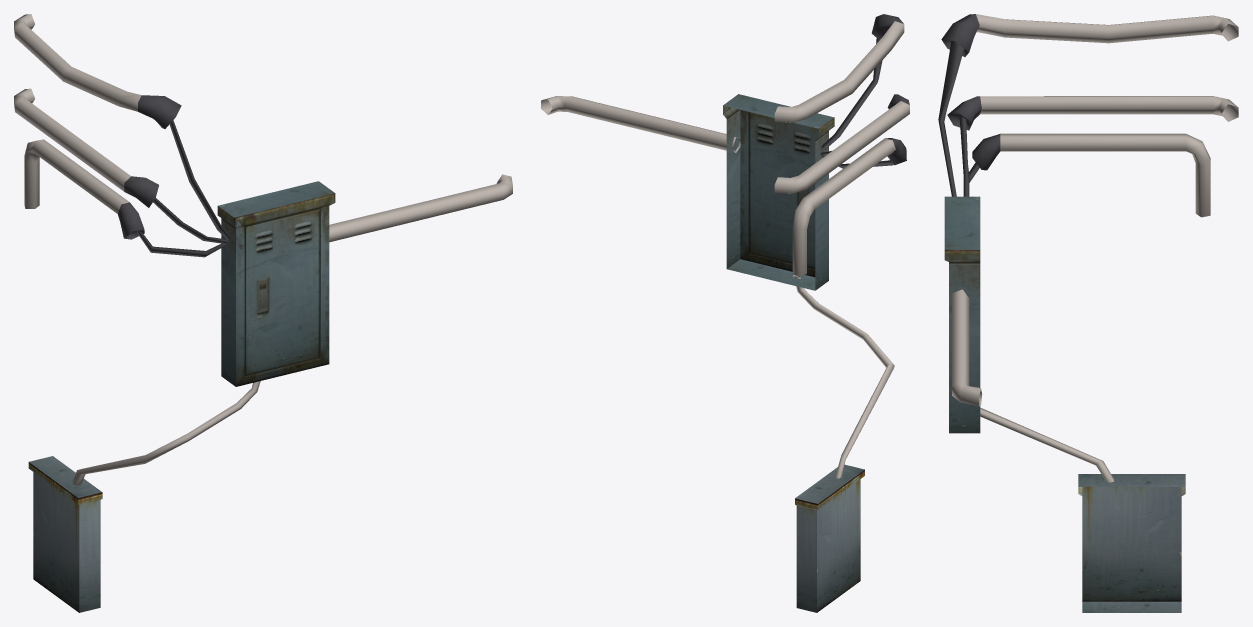
The model's file is ElectricBox.fbx.
The picture shows the model from 3 angles, left to right: view 1: azimuth 30°, elevation 25°; view 2: azimuth 150°, elevation 25°; view 3: azimuth 270°, elevation 25°; orthographic projection. The views are drawn at different scales.
Parts seen in each view (by area): view 1: ElectricBox; view 2: ElectricBox; view 3: ElectricBox.
Boxes of the visible parts, x1,y1,x2,y2 form: ElectricBox: [14, 14, 512, 612]; ElectricBox: [541, 14, 909, 612]; ElectricBox: [938, 14, 1238, 612].
Bounding box in the file's own units: 258 × 349 × 160.
Materials: 1 (1 with a texture image).
